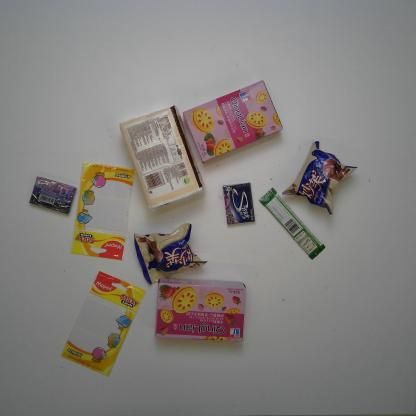Chocolate: (258, 187, 326, 260)
Dessert: (182, 78, 284, 164), (154, 277, 247, 342), (281, 140, 358, 216), (133, 222, 208, 284)
Gum: (28, 176, 76, 214), (222, 182, 256, 226)
Stationery: (60, 270, 148, 378), (68, 162, 136, 262)
Tissue: (120, 104, 206, 210)
